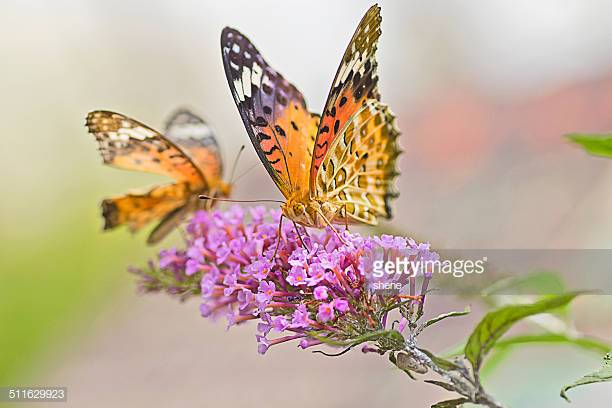Argyreus hyperbius: (218, 1, 411, 253), (79, 93, 267, 252)
butterfly: (220, 3, 413, 255), (81, 95, 269, 254)
